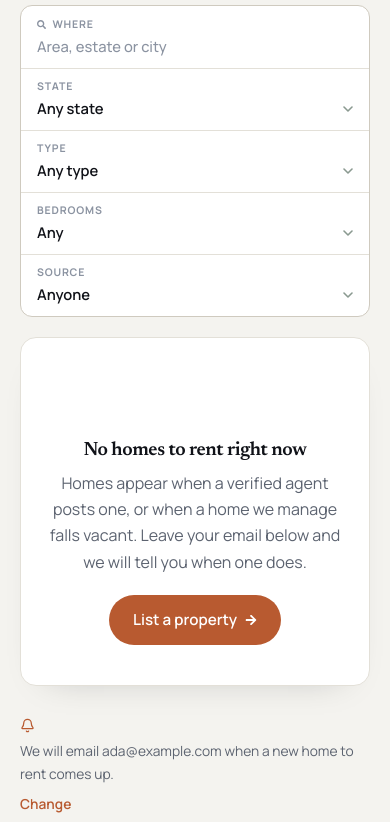
the new-listing alert form is not shown again once someone has signed up
Expected: the text "We will email ada@example.com" is shown, [20, 740, 370, 786]
Expected: the button "notify me" is not shown
Click the button "Change" at (46, 804), box [20, 793, 71, 816]
(page scrolled)
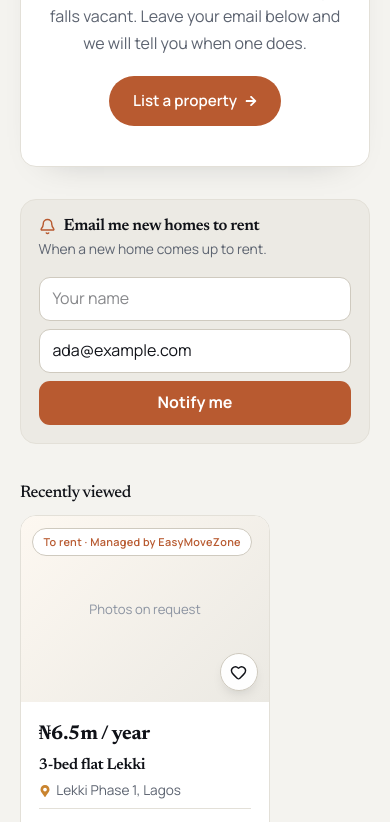
Expected: the button "Notify me" is shown, [39, 381, 351, 425]
